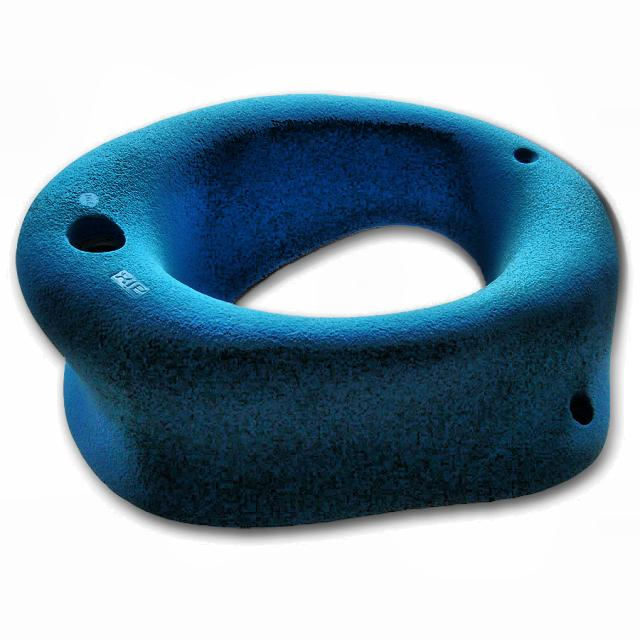Hold: (20, 90, 622, 526)
